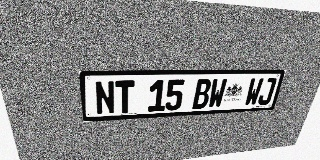1: (148, 80, 167, 112)
5: (165, 79, 185, 111)
B: (192, 79, 212, 109)
J: (257, 78, 277, 105)
N: (94, 81, 115, 115)
T: (115, 80, 135, 114)
W: (207, 79, 228, 108), (244, 78, 264, 106)
